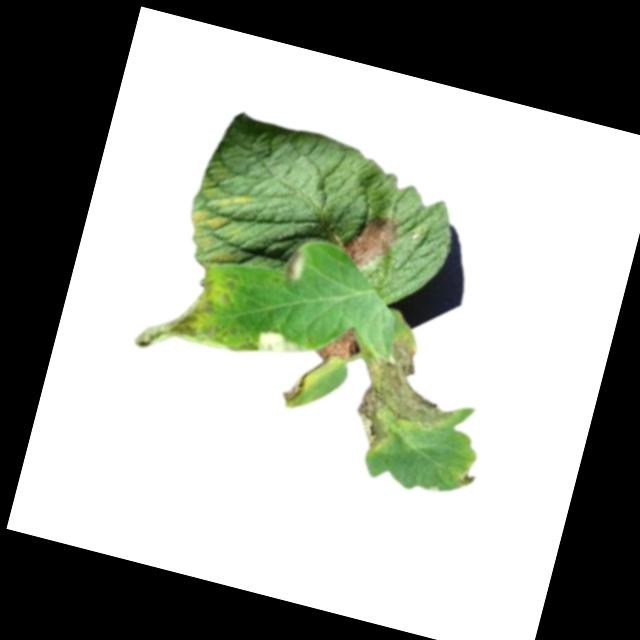Late_blight: (347, 330, 468, 466), (131, 251, 224, 362), (339, 206, 403, 276), (313, 317, 365, 369), (253, 324, 306, 364), (280, 363, 311, 407), (281, 246, 308, 284), (453, 464, 481, 490)
